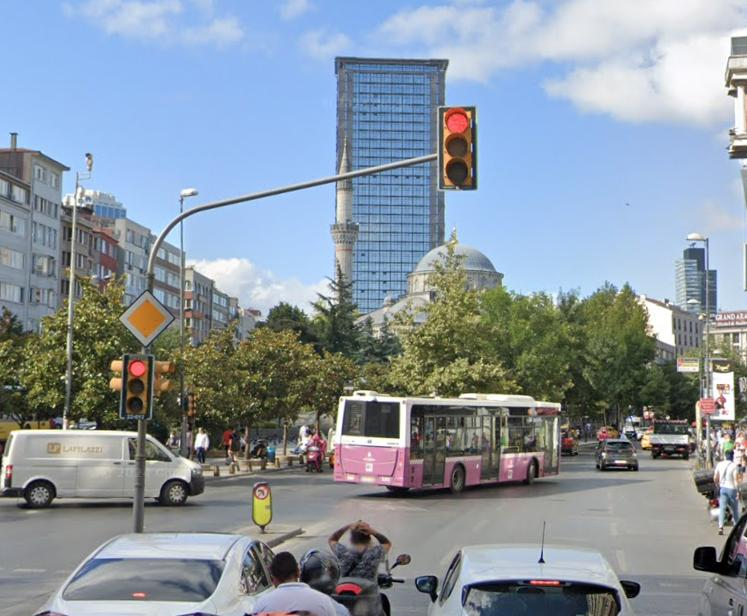redlight: (439, 106, 473, 187), (126, 354, 150, 411)
